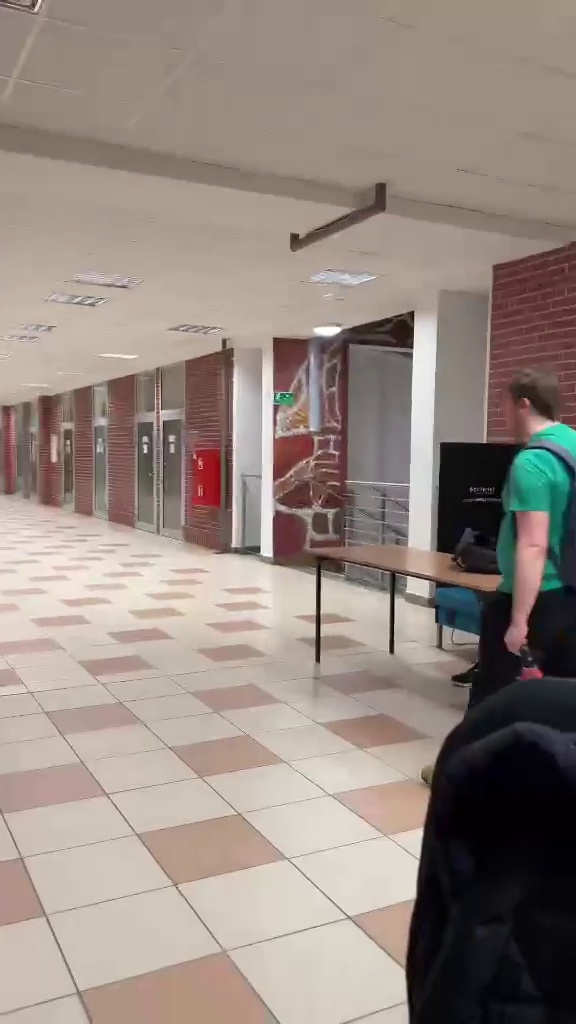no vest: (468, 362, 576, 709)
